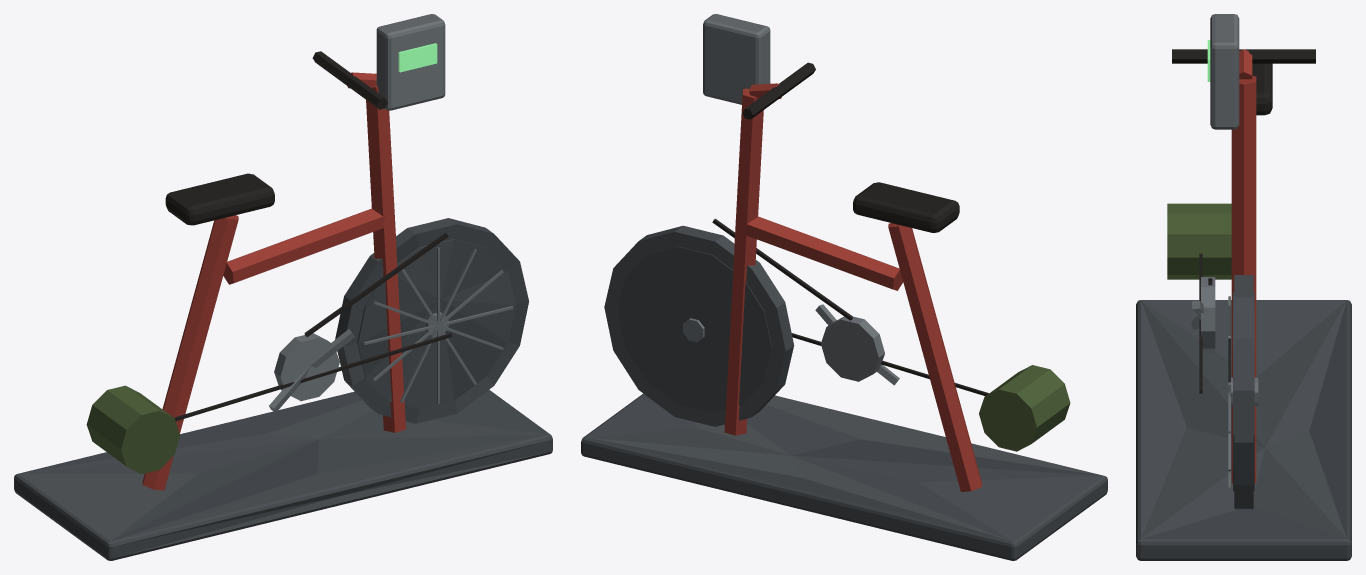
File: bike_generator_statsionarnyy_idle.glb
3 renders of one model, left to right at view 1: azimuth 30°, elevation 25°; view 2: azimuth 150°, elevation 25°; view 3: azimuth 270°, elevation 25°, orthographic. The views are drawn at different scales.
Visible parts, largest first — view 1: bike_generator_statsionarnyy_idle; view 2: bike_generator_statsionarnyy_idle; view 3: bike_generator_statsionarnyy_idle.
Boxes of the visible parts, x1=… form: bike_generator_statsionarnyy_idle: x1=14, y1=14, x2=552, y2=560; bike_generator_statsionarnyy_idle: x1=581, y1=14, x2=1107, y2=560; bike_generator_statsionarnyy_idle: x1=1136, y1=14, x2=1351, y2=560.
Bounding box in the file's own units: 1.25 × 1.1 × 0.45.
Materials: 2 (2 with a texture image).
